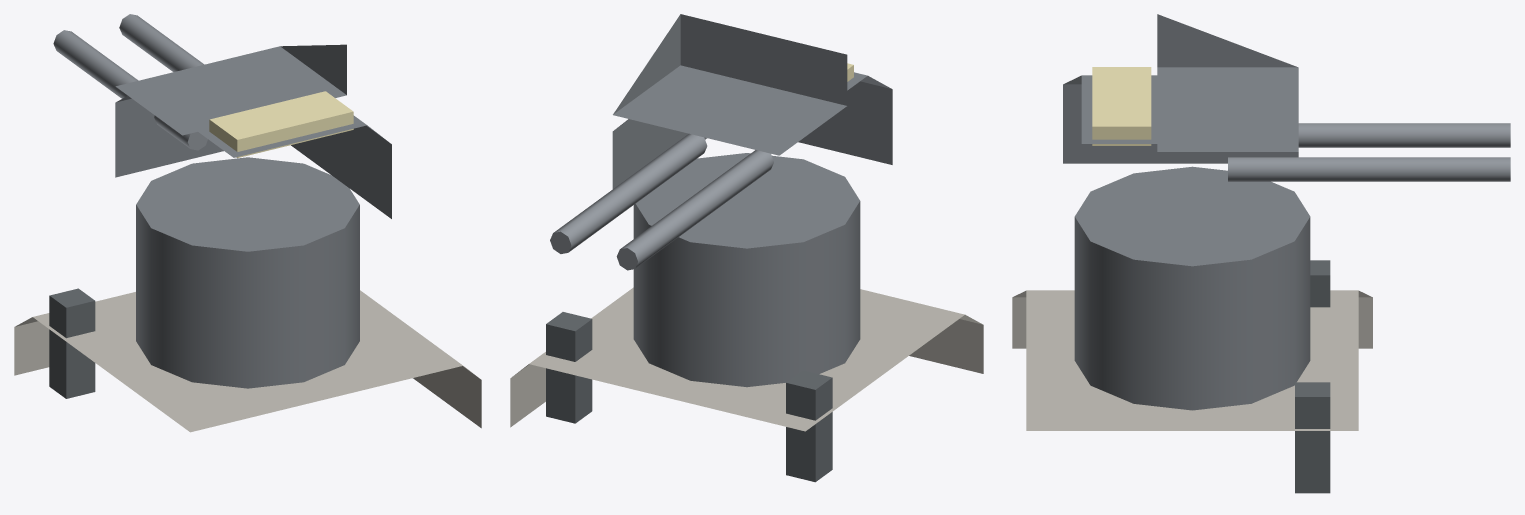
Rendered from at_turret.glb.
The picture shows the model from 3 angles, left to right: view 1: azimuth 30°, elevation 25°; view 2: azimuth 150°, elevation 25°; view 3: azimuth 270°, elevation 25°; orthographic projection. The views are drawn at different scales.
Parts seen in each view (by area): view 1: Body, Turret; view 2: Body, Turret; view 3: Body, Turret.
Boxes of the visible parts, box(x1,y1,x2,y2) form: Body: box(14, 157, 481, 432); Turret: box(53, 14, 391, 218); Body: box(510, 153, 983, 482); Turret: box(550, 14, 892, 270); Body: box(1012, 166, 1372, 493); Turret: box(1063, 14, 1510, 181).
Size of the model in its own units: 3.06 by 3.45 by 4.23.
